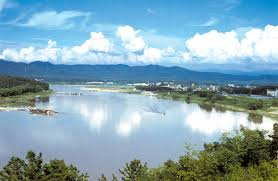forest: (154, 137, 276, 181)
mountain: (5, 56, 246, 84)
sea: (6, 90, 261, 160)
sky: (1, 1, 278, 64)
